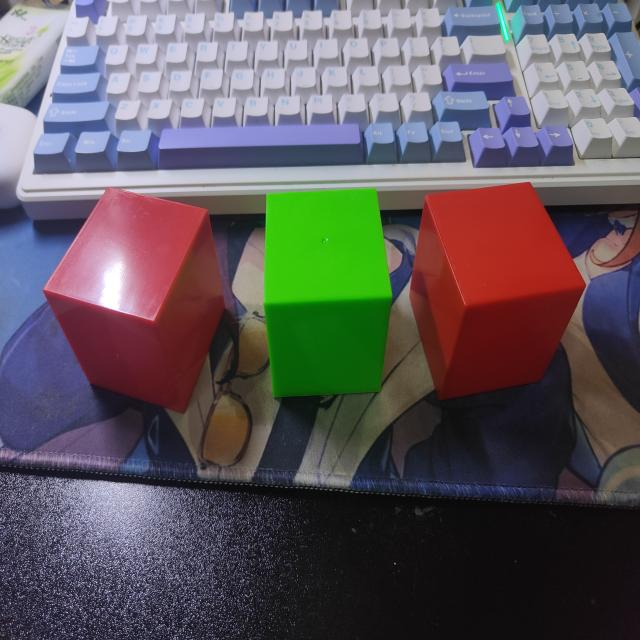green: (265, 188, 394, 400)
red: (41, 188, 227, 418), (408, 183, 588, 398)
